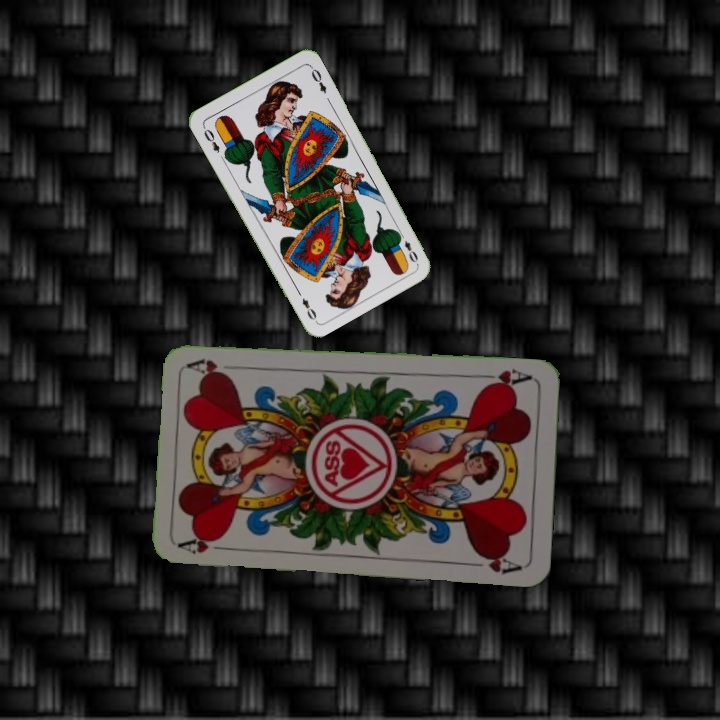EO: (395, 228, 421, 265), (199, 122, 222, 155)
HA: (477, 364, 534, 391), (176, 530, 235, 556)
